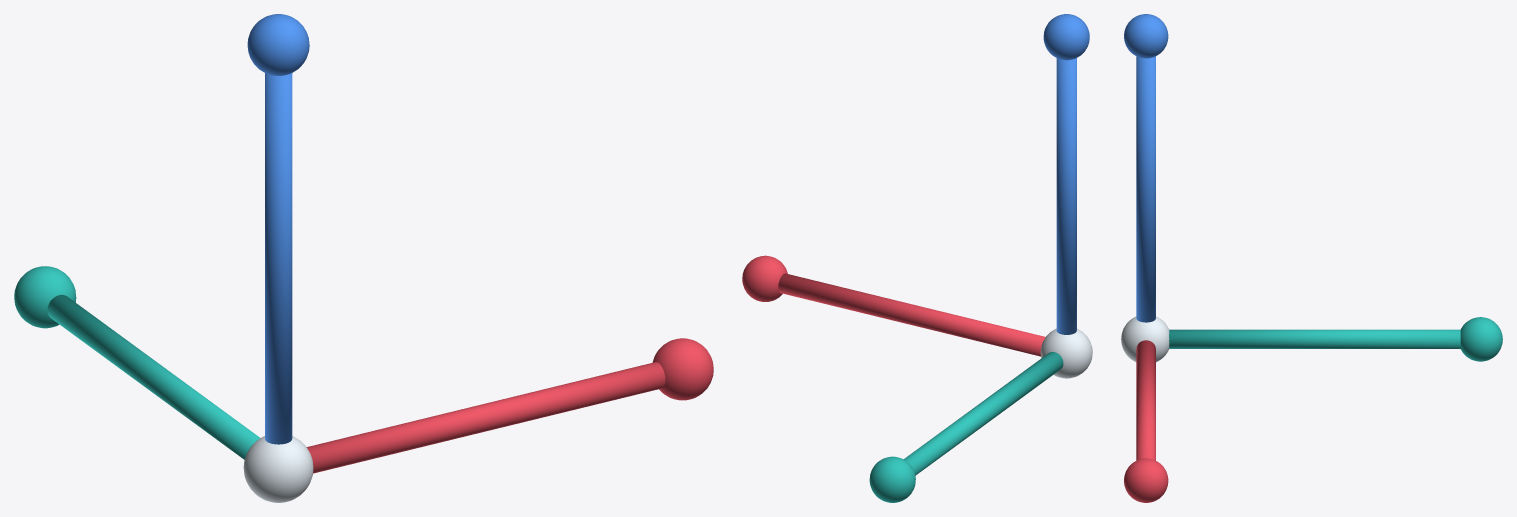
File: coordinate-axes-quality.glb
3 views of the same model, side by side, from view 1: azimuth 30°, elevation 25°; view 2: azimuth 150°, elevation 25°; view 3: azimuth 270°, elevation 25° (orthographic). The views are drawn at different scales.
Parts seen in each view (by area): view 1: X axis; view 2: X axis; view 3: X axis.
Part boxes in pixels (box(x1,y1,x2,y2)): X axis: box(14, 14, 713, 502); X axis: box(742, 14, 1092, 502); X axis: box(1121, 14, 1502, 502).
Size of the model in its own units: 1.37 by 1.37 by 1.37.
